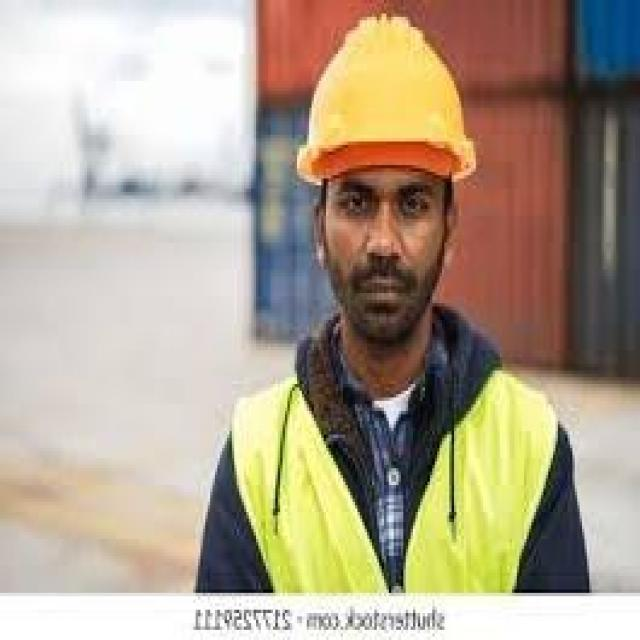reflective_jacket: (222, 336, 565, 596)
safety_helmet: (292, 13, 483, 191)
